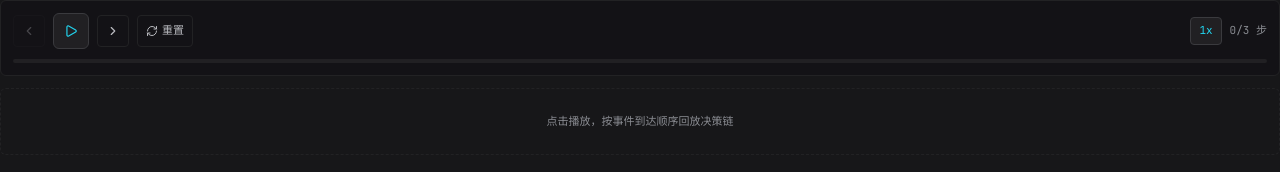
Test: StepPlayer › 倍速按钮循环切换 1x/2x/4x
Click the button titled "回放速度" at (1206, 31), box [1190,18,1222,44]
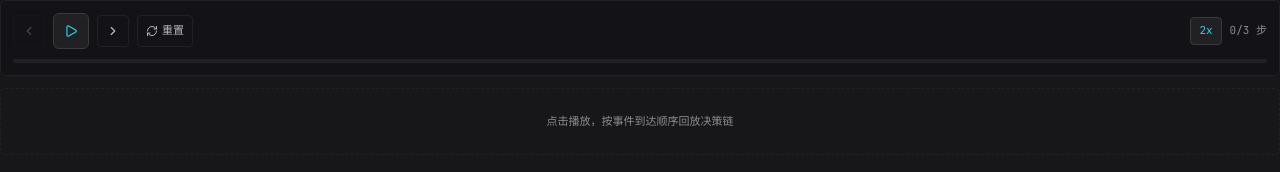
Now the button titled "回放速度" reads "2x"
Click the button titled "回放速度" at (1206, 31), box [1190,18,1222,44]
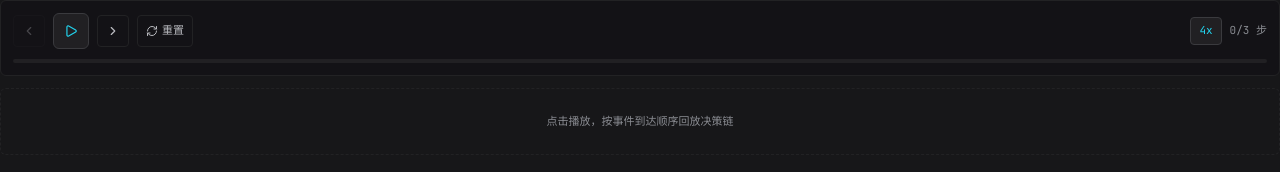
Now the button titled "回放速度" reads "4x"
Click the button titled "回放速度" at (1206, 31), box [1190,18,1222,44]
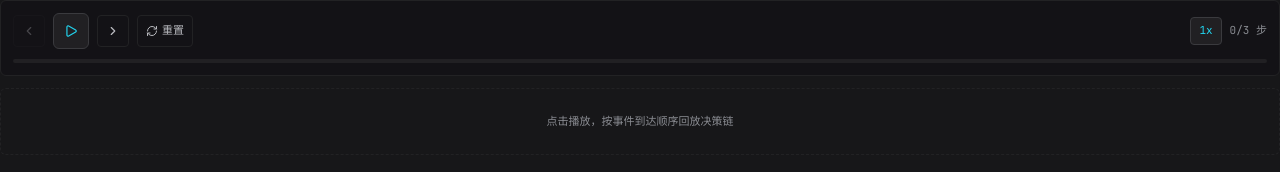
Now the button titled "回放速度" reads "1x", box [1190,18,1222,44]
